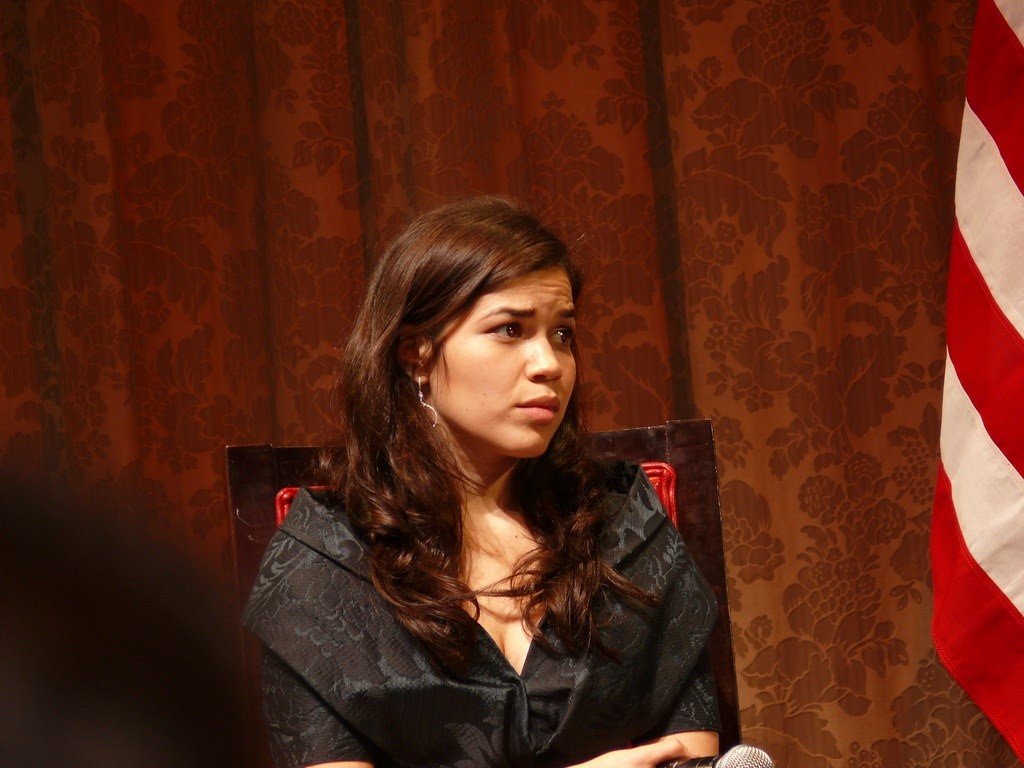face_no_mask: (360, 197, 582, 464)
